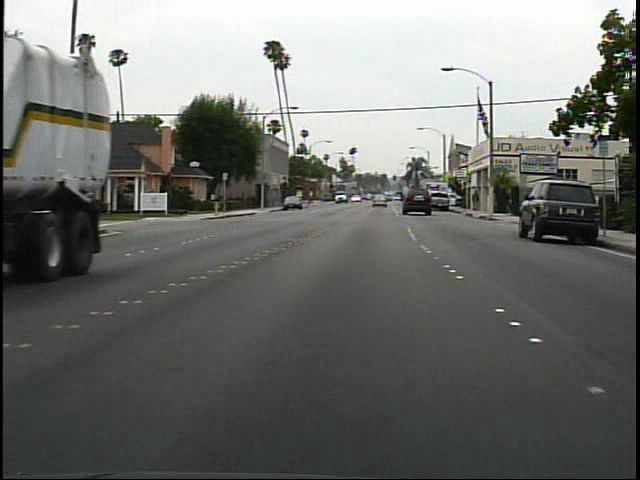person: (466, 187, 483, 216)
